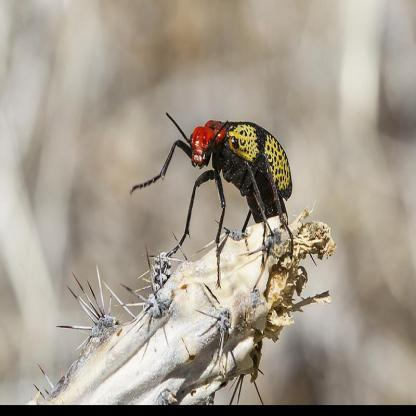beetle: (133, 107, 295, 275)
